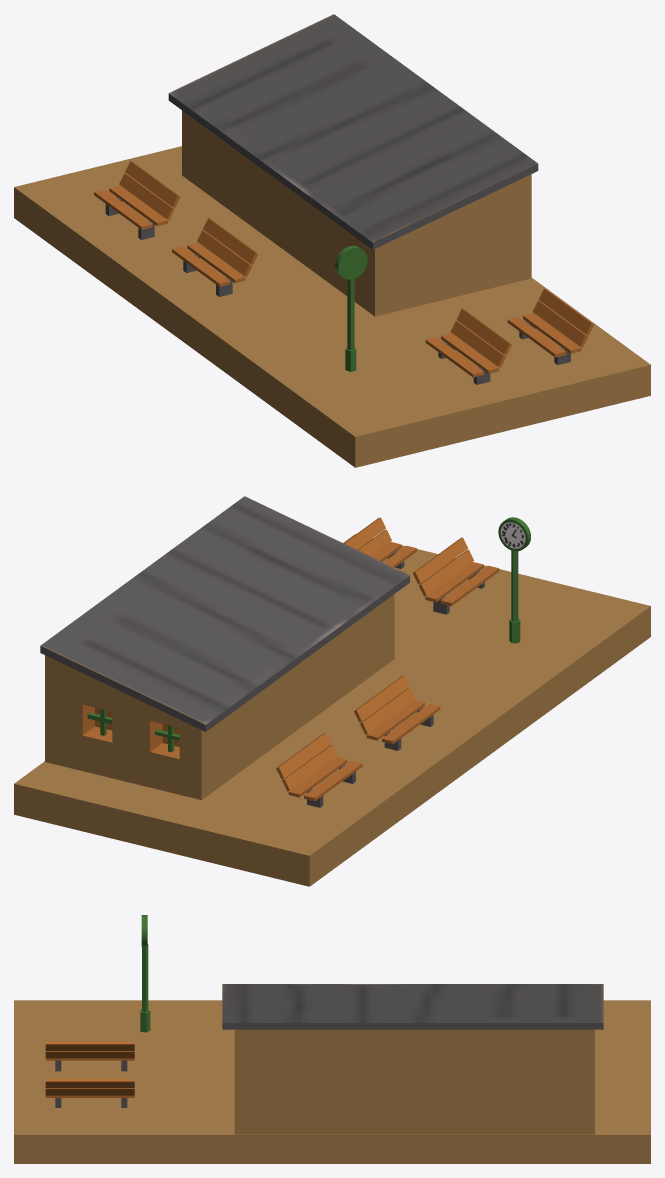
File: RailwayStation.fbx
3 renders of one model, top to bottom at view 1: azimuth 30°, elevation 25°; view 2: azimuth 150°, elevation 25°; view 3: azimuth 270°, elevation 25°, orthographic. The views are drawn at different scales.
Parts seen in each view (by area): view 1: Cube; view 2: Cube; view 3: Cube.
Boxes of the visible parts, x1,y1,x2,y2 form: Cube: [14, 14, 650, 467]; Cube: [14, 496, 650, 886]; Cube: [14, 915, 650, 1163].
Size of the model in its own units: 2000 by 990 by 4000.
